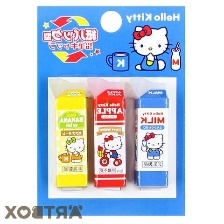carton: (84, 76, 129, 190), (47, 76, 90, 193), (127, 77, 171, 191)
